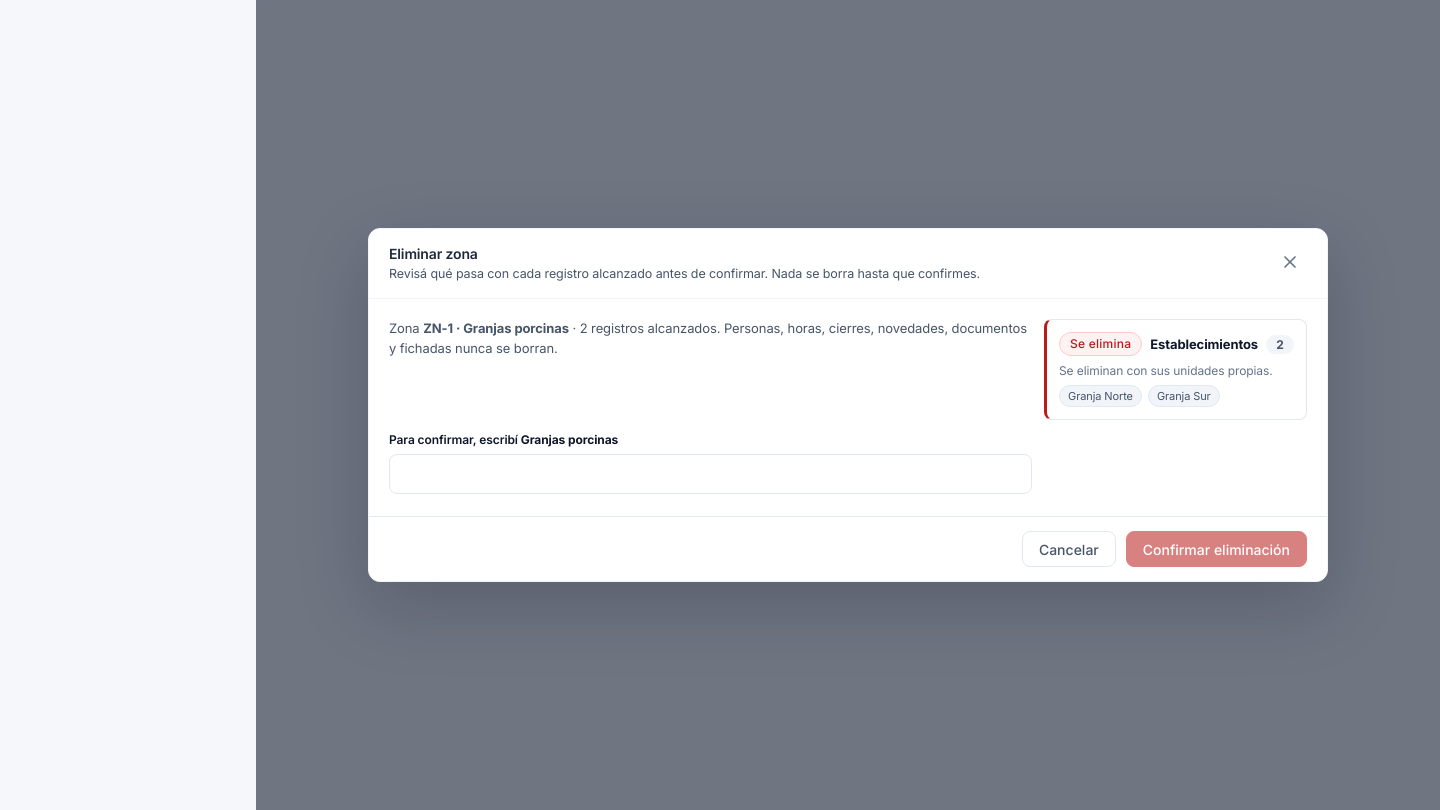
Test case: DeletionPreviewModal › si cambia el impacto muestra la preview nueva y obliga a confirmar otra vez
Type "Granjas porcinas" into the field labelled "Para confirmar, escribí Granjas porcinas". click: x=710, y=474
box: [389, 454, 1032, 494]
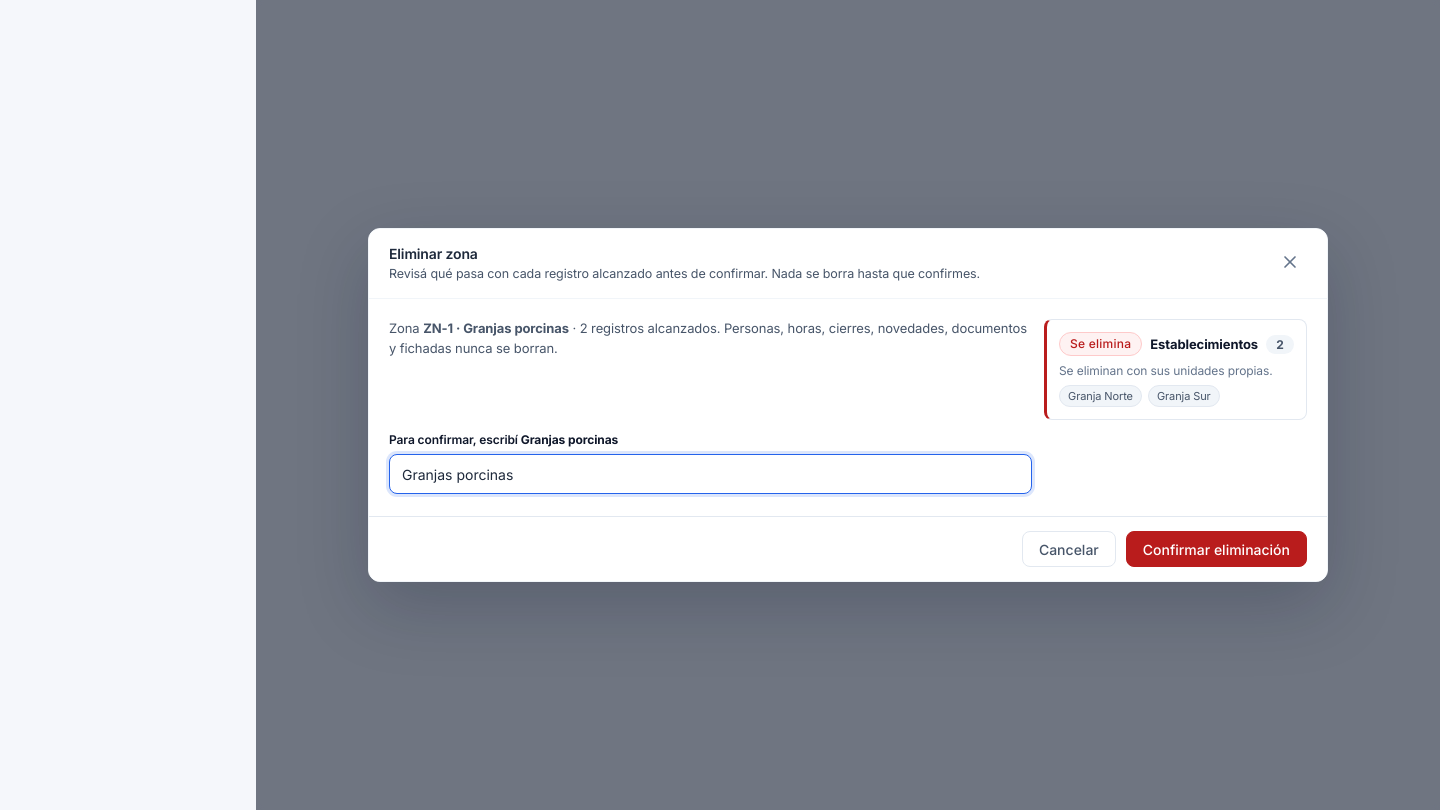
Click the button "Confirmar eliminación". click: x=1216, y=549
box: [1126, 531, 1307, 567]
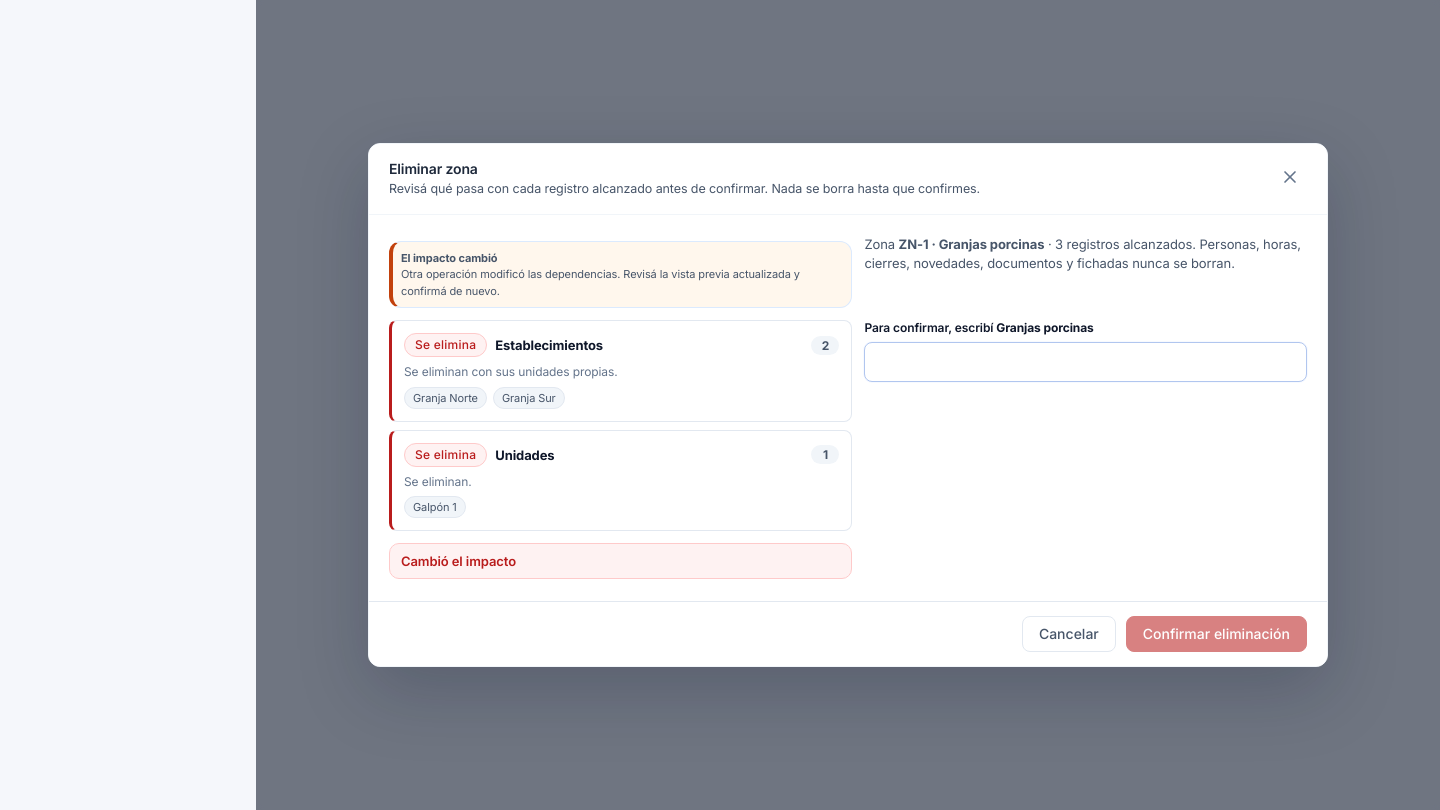
Check: the text "El impacto cambió" is shown, box [401, 251, 498, 265]
Check: the text "Unidades" is shown, box [495, 446, 554, 462]
Check: the button "Confirmar eliminación" is disabled, box [1126, 616, 1307, 652]
